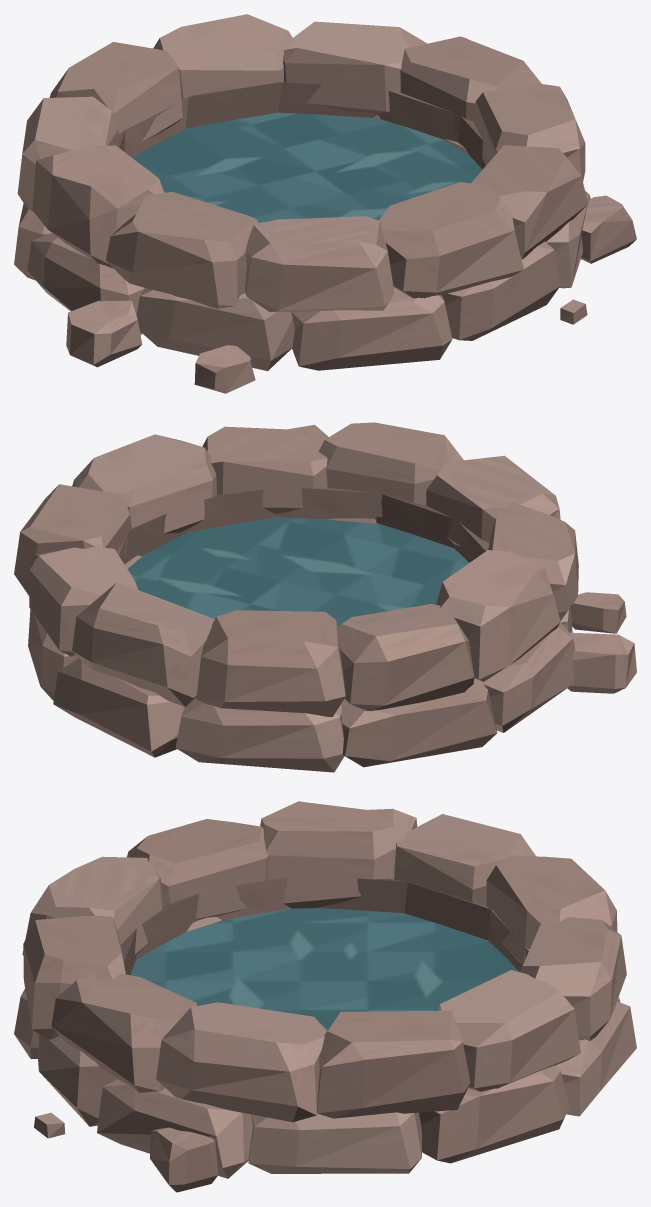
File: Prehistoric_Stone_Well.glb
3 renders of one model, top to bottom at view 1: azimuth 30°, elevation 25°; view 2: azimuth 150°, elevation 25°; view 3: azimuth 270°, elevation 25°, orthographic. The views are drawn at different scales.
Visible parts, largest first — view 1: Prehistoric Stone Well; view 2: Prehistoric Stone Well; view 3: Prehistoric Stone Well.
Boxes of the visible parts, <box> form: Prehistoric Stone Well: <box>14,14,636,393</box>; Prehistoric Stone Well: <box>14,422,636,772</box>; Prehistoric Stone Well: <box>14,801,636,1192</box>.
Bounding box in the file's own units: 3.44 × 0.8313 × 3.24.
Materials: 1 (1 with a texture image).
